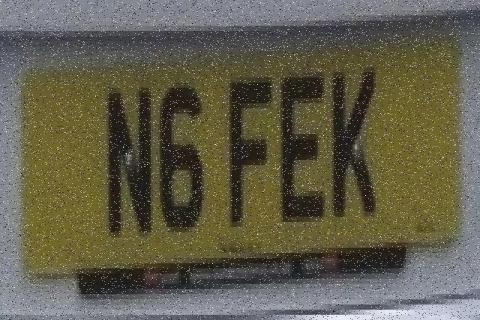LicensePlate: (10, 37, 470, 279)
